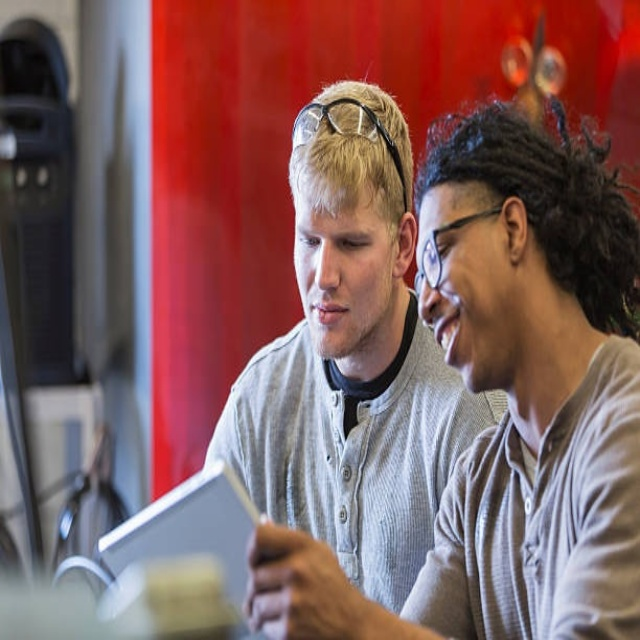Gafas: (415, 196, 504, 290)
Sin_gafas: (292, 212, 385, 256)
Sin_guantes: (243, 515, 363, 640)
Sin_mascara: (424, 303, 481, 383), (304, 295, 352, 333)
